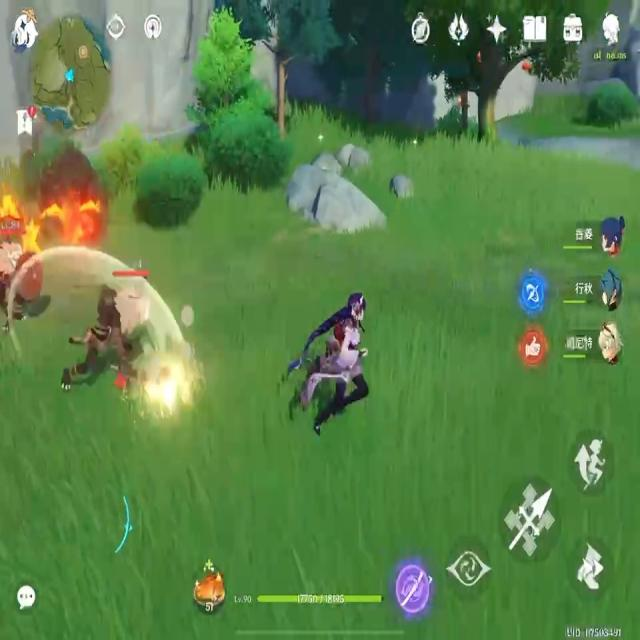genshin-hilichurls: (60, 262, 158, 396), (0, 213, 47, 343)
